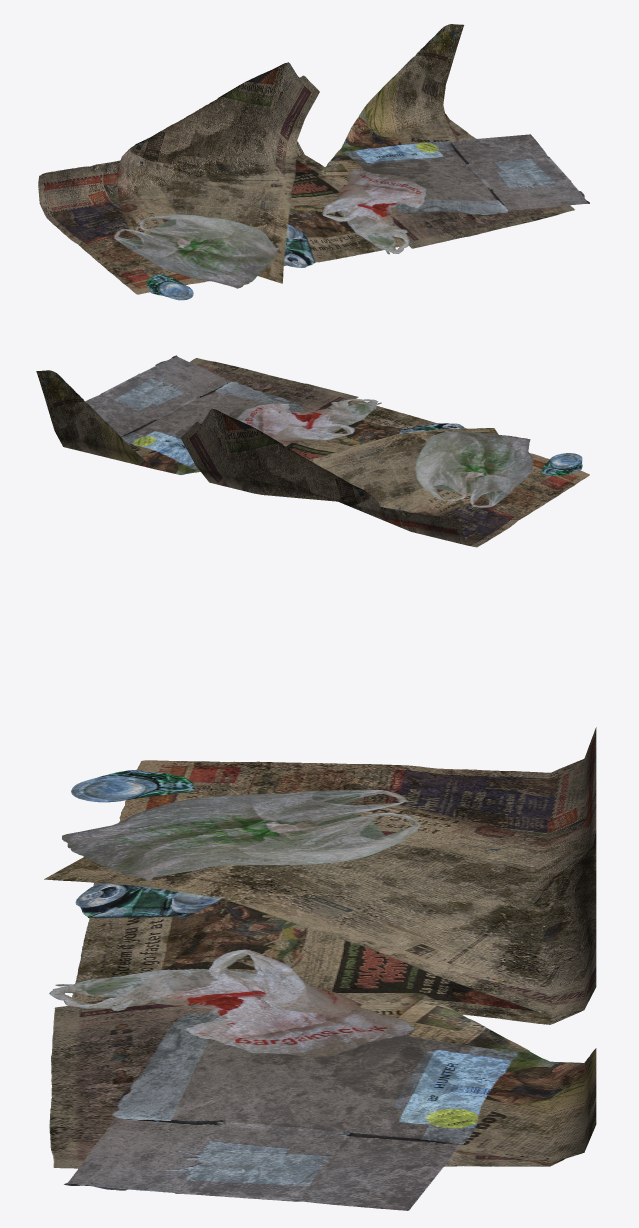
The model's file is 3D_Decal_09.fbx.
3 renders of one model, top to bottom at view 1: azimuth 30°, elevation 25°; view 2: azimuth 150°, elevation 25°; view 3: azimuth 270°, elevation 25°, orthographic. The views are drawn at different scales.
Parts seen in each view (by area): view 1: THREED_Decal; view 2: THREED_Decal; view 3: THREED_Decal.
Part boxes in pixels (x1=…): THREED_Decal: x1=38, y1=24, x2=589, y2=300; THREED_Decal: x1=36, y1=355, x2=589, y2=547; THREED_Decal: x1=44, y1=727, x2=596, y2=1210.
Bounding box in the file's own units: 2.42 × 0.4172 × 1.23.
